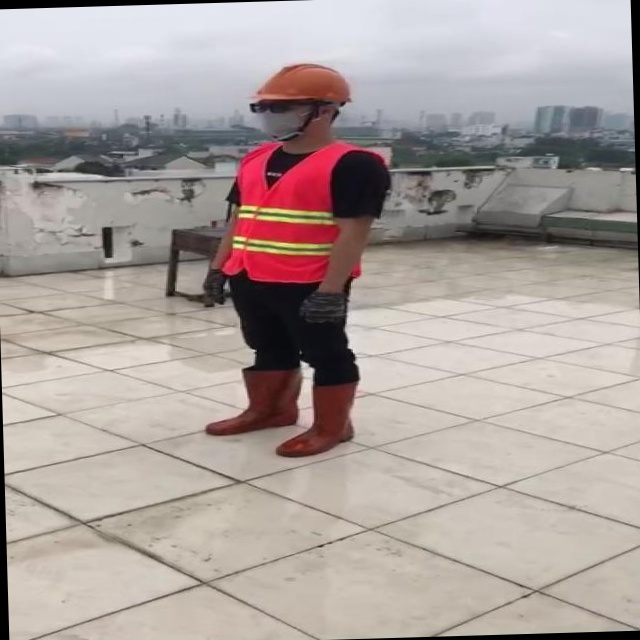boots: (268, 378, 372, 459), (343, 362, 441, 432)
gloves: (295, 288, 341, 324), (411, 268, 438, 309)
helmet: (275, 60, 388, 101)
vest: (256, 149, 414, 283)
